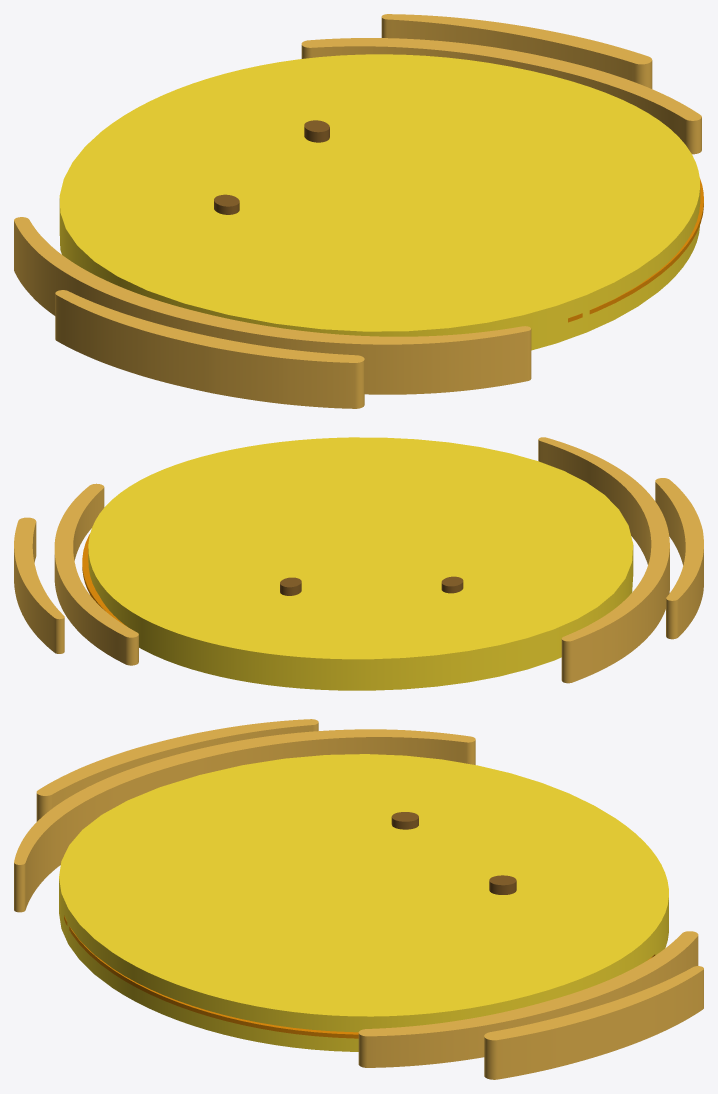
The model's file is emoji_u1fae8.glb.
The picture shows the model from 3 angles, top to bottom: view 1: azimuth 30°, elevation 25°; view 2: azimuth 150°, elevation 25°; view 3: azimuth 270°, elevation 25°; orthographic projection. The views are drawn at different scales.
Visible parts, largest first — view 1: emoji_u1fae8; view 2: emoji_u1fae8; view 3: emoji_u1fae8.
Part boxes in pixels (x1,y1,x2,y2): emoji_u1fae8: [14, 14, 703, 408]; emoji_u1fae8: [14, 437, 703, 690]; emoji_u1fae8: [14, 719, 703, 1079].
Bounding box in the file's own units: 0.0346 × 0.0028 × 0.0316.
